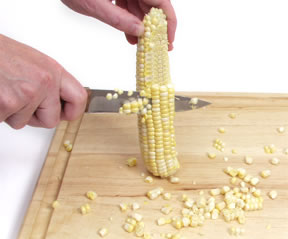corn: (46, 6, 285, 238)
